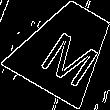M_NE: (30, 15, 101, 83)
